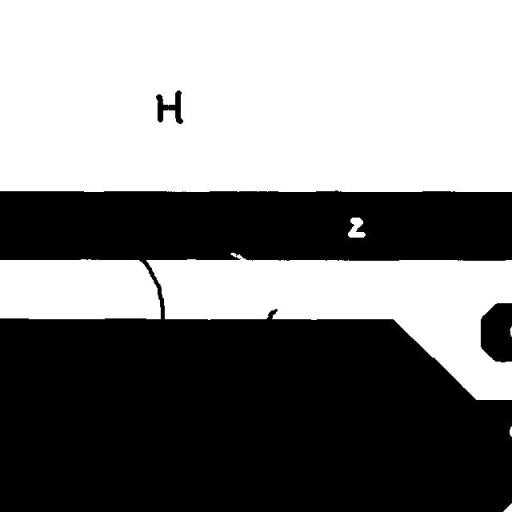copper: (148, 82, 190, 132)
mousebite: (222, 245, 254, 268)
pin-hole: (340, 210, 373, 244)
short: (131, 250, 172, 328)
spur: (257, 301, 285, 331)
